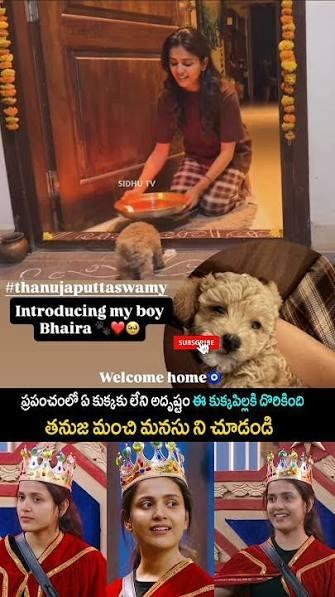puppy-dog: (173, 273, 303, 389), (116, 221, 165, 279)
